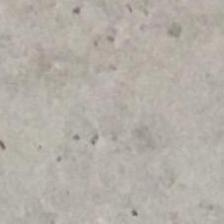Non_Crack: (6, 14, 193, 217)
